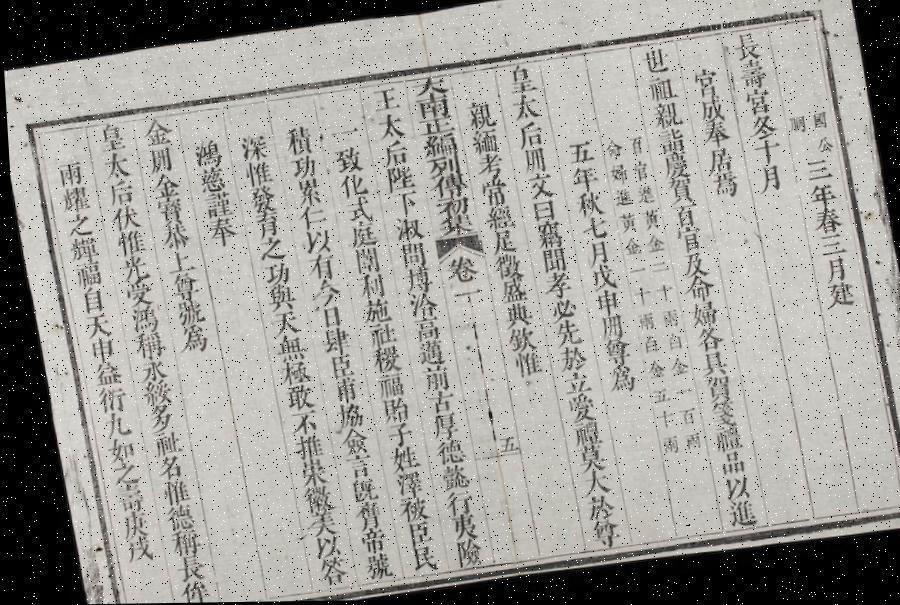c: (438, 254, 479, 288), (277, 122, 314, 158), (424, 172, 468, 202), (91, 119, 128, 153), (459, 98, 496, 132), (136, 115, 174, 148), (500, 64, 538, 97), (686, 66, 722, 100), (732, 60, 769, 93), (233, 130, 270, 163), (104, 480, 142, 512), (416, 132, 459, 160), (580, 518, 617, 550), (125, 329, 163, 360), (558, 394, 594, 426), (716, 498, 752, 530), (306, 554, 342, 586), (636, 46, 672, 78), (806, 206, 842, 238), (728, 32, 764, 64), (330, 426, 366, 458), (96, 149, 132, 181), (164, 552, 201, 583), (641, 75, 678, 106), (158, 527, 196, 557), (166, 296, 204, 326), (163, 270, 198, 302), (171, 322, 206, 354), (328, 144, 363, 176), (155, 502, 191, 533), (289, 456, 325, 487), (506, 92, 542, 123), (430, 462, 466, 493), (370, 111, 406, 142), (201, 216, 237, 247), (87, 383, 124, 413), (268, 334, 305, 364), (646, 102, 683, 132), (195, 190, 232, 220), (410, 94, 451, 121), (296, 510, 335, 538), (344, 500, 378, 532), (122, 302, 156, 334), (474, 178, 508, 210), (110, 508, 145, 539), (352, 550, 387, 581), (154, 220, 189, 251), (576, 494, 612, 524), (567, 443, 603, 473), (572, 468, 608, 498), (695, 375, 731, 405), (97, 434, 133, 464), (294, 484, 330, 514), (104, 202, 140, 232), (61, 233, 97, 263), (380, 444, 416, 474), (109, 227, 145, 257), (191, 164, 227, 194), (113, 535, 150, 564), (389, 495, 426, 524), (53, 184, 90, 213), (444, 538, 478, 569), (600, 364, 634, 395), (187, 136, 221, 167), (379, 164, 414, 194), (408, 74, 450, 99), (143, 428, 178, 458), (385, 470, 420, 500), (117, 278, 152, 308), (696, 120, 731, 150), (304, 278, 339, 308), (681, 300, 716, 330), (400, 292, 435, 322), (655, 152, 690, 182), (505, 350, 540, 380), (326, 401, 361, 431), (297, 227, 332, 257), (818, 282, 854, 311), (434, 488, 470, 517), (151, 477, 187, 506), (677, 275, 713, 304), (704, 426, 740, 455), (134, 378, 170, 407), (84, 358, 120, 387), (426, 437, 462, 466), (363, 346, 399, 375), (276, 383, 312, 412), (359, 322, 396, 350), (264, 308, 298, 338), (440, 512, 474, 542), (50, 158, 84, 188), (145, 170, 179, 200), (414, 364, 448, 394), (260, 282, 294, 312), (300, 252, 334, 282), (314, 326, 348, 356), (528, 221, 562, 251), (350, 272, 384, 302), (388, 215, 422, 245), (691, 350, 726, 379), (67, 259, 102, 288), (113, 253, 148, 282), (237, 159, 272, 188), (432, 214, 474, 238), (420, 156, 462, 180), (802, 182, 838, 210), (272, 359, 308, 387), (651, 128, 687, 156), (354, 298, 390, 326), (752, 164, 784, 195), (422, 412, 455, 442), (701, 146, 734, 176), (470, 152, 503, 182), (347, 246, 380, 276), (569, 191, 603, 220), (372, 396, 406, 425), (700, 400, 734, 429), (138, 403, 172, 432), (150, 195, 184, 224), (738, 89, 772, 118), (94, 410, 128, 439), (101, 177, 135, 206), (660, 177, 694, 206), (537, 272, 571, 301), (397, 266, 431, 295), (520, 173, 554, 202), (563, 420, 598, 448), (281, 409, 316, 437), (705, 172, 740, 200), (712, 475, 748, 502), (130, 356, 166, 383), (412, 116, 456, 138), (168, 577, 205, 603), (430, 196, 470, 220), (512, 120, 544, 150), (596, 338, 628, 368), (289, 177, 321, 207), (142, 145, 175, 174), (243, 184, 276, 213), (466, 128, 499, 157), (392, 241, 425, 270), (564, 165, 597, 194), (400, 544, 434, 572), (349, 526, 383, 554), (366, 86, 400, 114), (546, 320, 580, 348), (58, 210, 92, 238), (688, 327, 722, 355), (338, 196, 372, 224), (500, 326, 534, 354), (334, 172, 368, 200), (342, 222, 376, 250), (487, 254, 521, 282), (292, 204, 327, 231), (248, 211, 280, 240), (584, 264, 616, 293), (744, 114, 777, 142), (561, 140, 594, 168), (493, 278, 526, 306), (480, 205, 513, 233), (708, 451, 742, 478), (748, 139, 782, 166), (376, 421, 410, 448), (76, 311, 110, 338), (286, 433, 320, 460), (409, 340, 443, 367), (368, 373, 402, 400), (550, 346, 584, 373), (396, 520, 428, 548), (816, 257, 848, 285), (670, 227, 702, 255), (674, 252, 706, 280), (516, 148, 548, 176), (484, 229, 516, 257), (534, 247, 566, 275), (148, 453, 181, 480), (693, 98, 726, 125), (405, 316, 438, 343), (497, 303, 530, 330), (304, 532, 338, 558), (812, 234, 846, 260), (102, 460, 136, 486), (554, 371, 588, 397), (800, 158, 834, 184), (80, 335, 114, 361), (159, 248, 193, 274), (417, 390, 451, 416), (251, 236, 285, 262), (73, 286, 104, 314), (377, 140, 408, 168), (666, 203, 698, 230), (386, 190, 418, 217), (337, 453, 370, 479), (542, 298, 575, 324), (285, 154, 318, 180), (326, 377, 356, 405), (320, 353, 351, 380), (591, 315, 622, 342), (342, 477, 374, 503), (257, 260, 289, 286), (575, 216, 607, 242), (446, 287, 482, 310), (323, 122, 360, 144), (580, 240, 608, 268), (589, 290, 618, 316), (312, 304, 340, 329), (526, 199, 554, 224), (634, 207, 659, 234), (626, 284, 650, 310), (639, 357, 663, 382), (604, 163, 628, 188), (600, 137, 623, 162), (662, 355, 685, 379), (614, 212, 637, 236), (652, 433, 675, 456), (635, 334, 657, 358), (627, 160, 649, 184), (640, 234, 664, 256), (630, 310, 652, 334), (630, 184, 654, 206), (610, 186, 632, 210), (649, 282, 672, 304), (670, 406, 693, 428), (784, 114, 807, 136), (622, 135, 644, 158), (649, 408, 670, 432), (654, 308, 676, 330), (811, 136, 834, 157), (675, 432, 698, 453), (644, 386, 668, 406), (490, 434, 512, 455), (660, 332, 681, 354), (807, 111, 828, 133), (666, 382, 690, 401), (619, 237, 640, 258), (644, 259, 667, 277), (622, 263, 644, 281)
